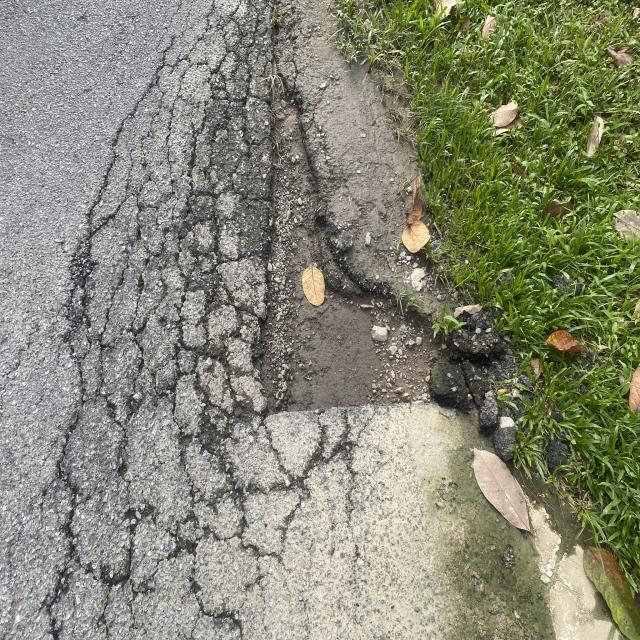Pothole: (222, 58, 437, 466)
